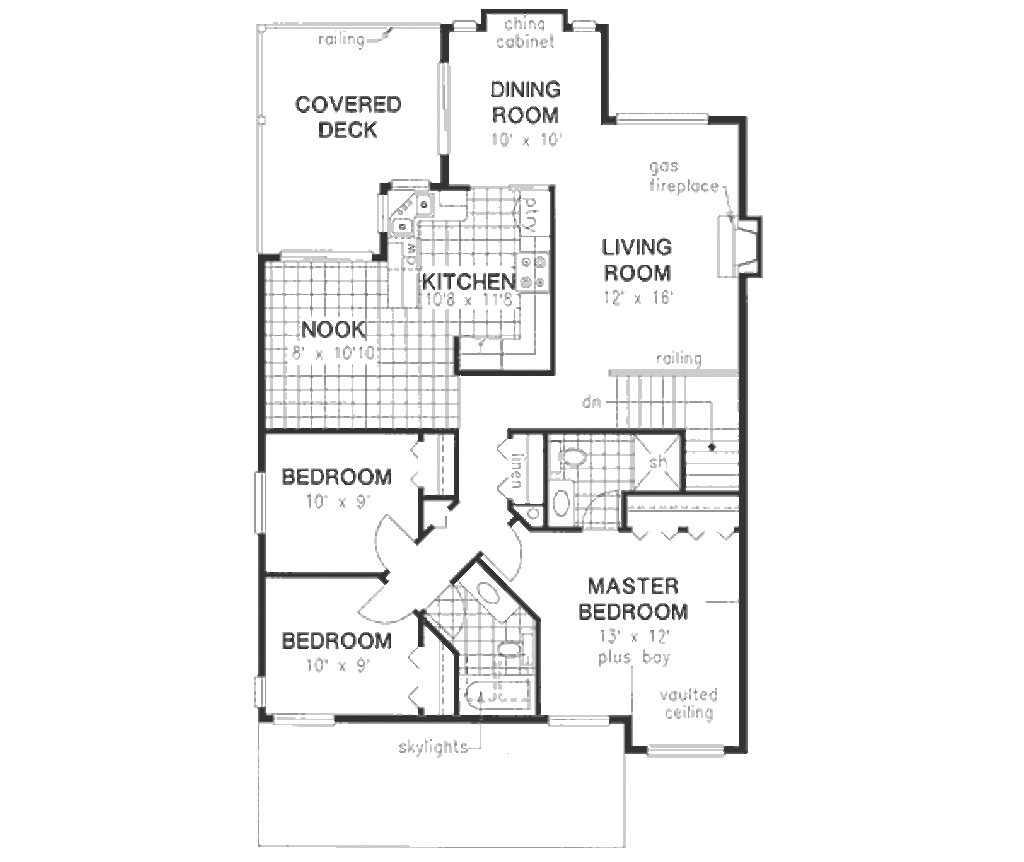door: (367, 512, 422, 574), (353, 574, 417, 626), (484, 516, 528, 585), (581, 485, 623, 534)
large_sink: (544, 433, 593, 475), (493, 629, 540, 667)
small_sink: (461, 562, 520, 626), (544, 478, 573, 533)
stairs: (594, 364, 747, 498)
tub: (458, 676, 544, 717)
window: (613, 106, 711, 132), (435, 60, 457, 159), (250, 465, 272, 541), (269, 709, 336, 732), (284, 247, 382, 262), (246, 668, 273, 719)
